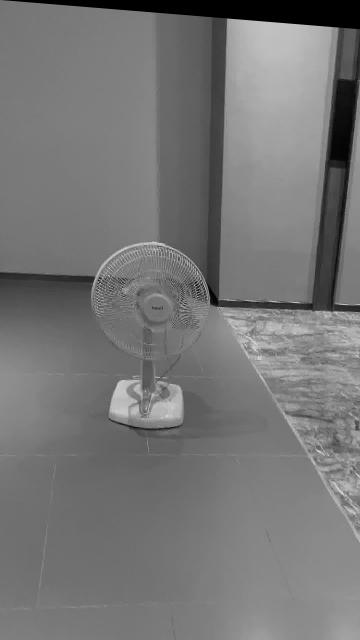Fan: (91, 239, 210, 427)
